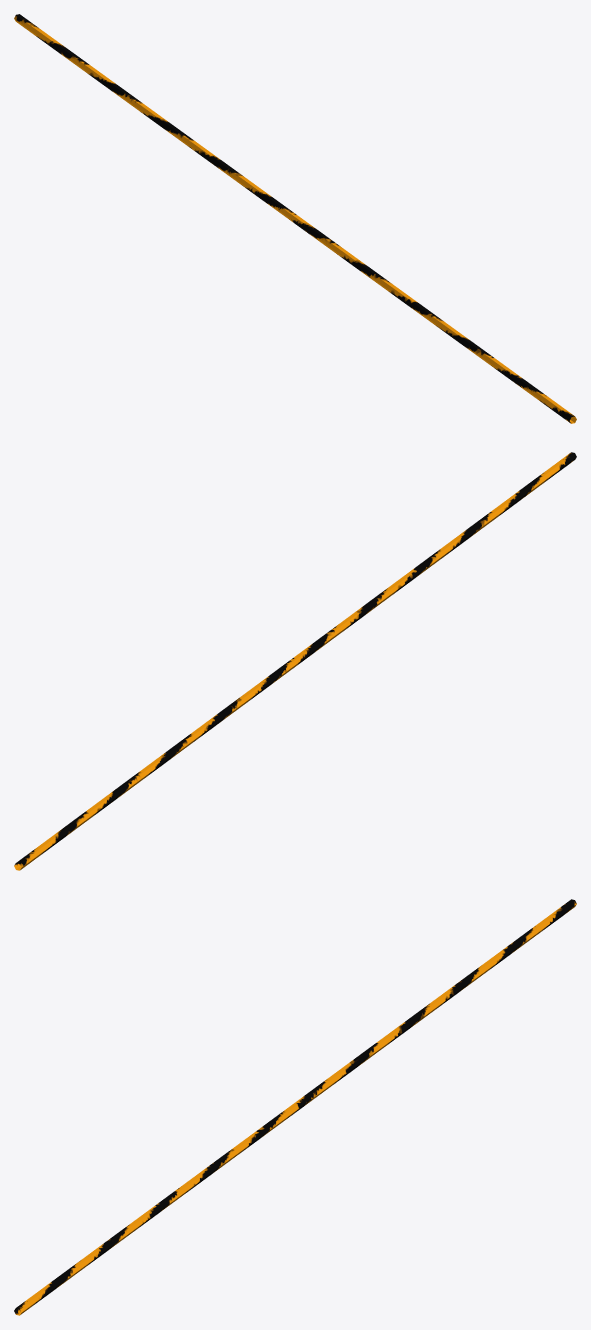
The model's file is StraightMetal.fbx.
3 renders of one model, top to bottom at view 1: azimuth 30°, elevation 25°; view 2: azimuth 150°, elevation 25°; view 3: azimuth 330°, elevation 25°, orthographic.
Parts seen in each view (by area): view 1: Vert.003; view 2: Vert.003; view 3: Vert.003.
Boxes of the visible parts, x1,y1,x2,y2 form: Vert.003: (14, 14, 576, 423); Vert.003: (14, 452, 576, 870); Vert.003: (14, 899, 576, 1315).
Bounding box in the file's own units: 14.42 × 10.22 × 1288.
1 material, 1 textured.
